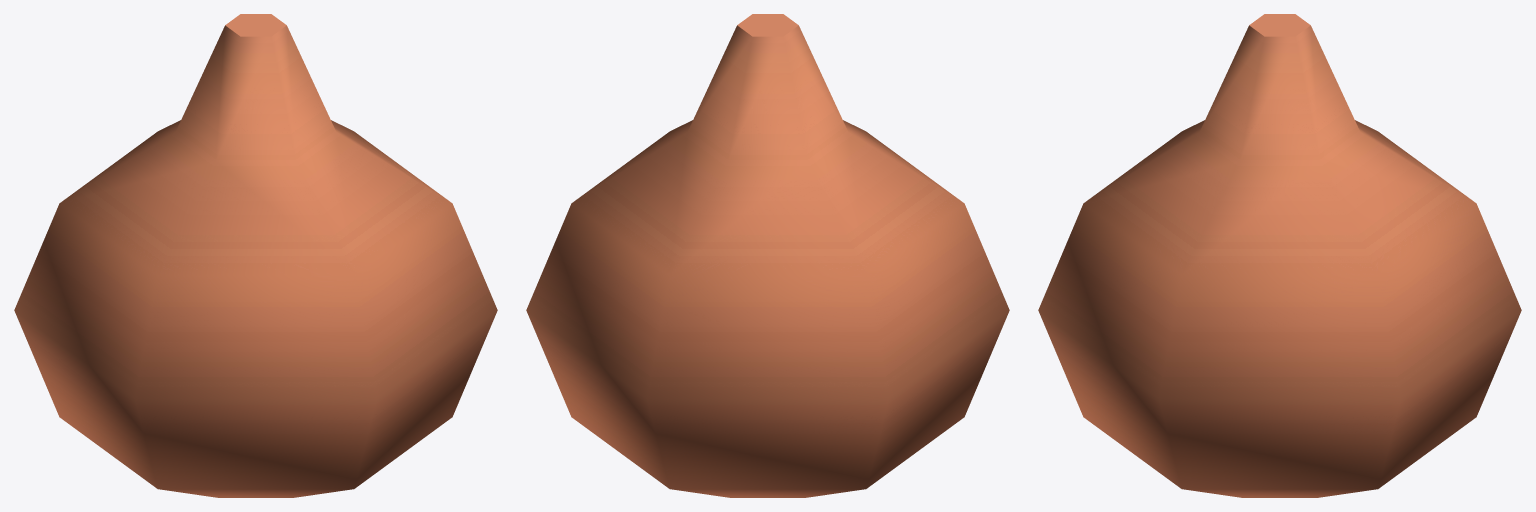
Rendered from onion.glb.
3 views of the same model, side by side, from view 1: azimuth 30°, elevation 25°; view 2: azimuth 150°, elevation 25°; view 3: azimuth 270°, elevation 25° (orthographic).
Parts seen in each view (by area): view 1: onion; view 2: onion; view 3: onion.
Part boxes in pixels (box(x1,y1,x2,y2)): onion: box(14, 14, 497, 497); onion: box(526, 14, 1009, 497); onion: box(1038, 14, 1521, 497).
Bounding box in the file's own units: 0.0682 × 0.08 × 0.0787.
1 material, 1 textured.
